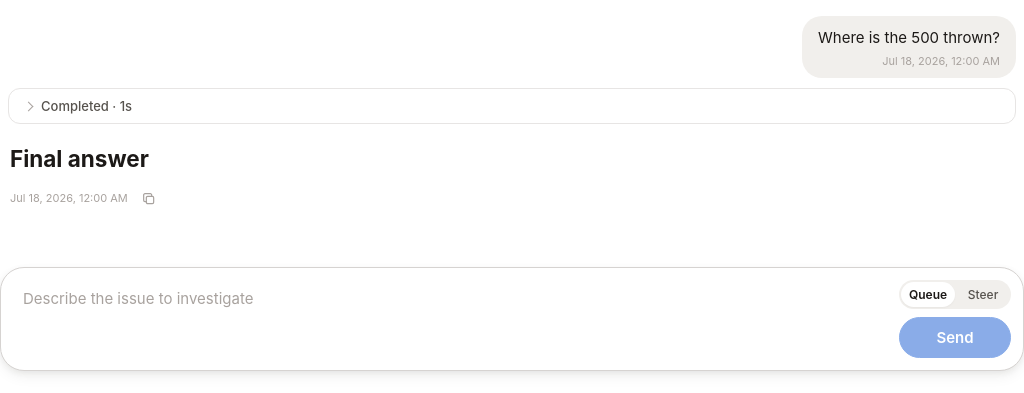
Test: Chat › reports a clipboard failure without changing the message
Step 1. Click the button named "Copy assistant message" → click(149, 199), box [136,187,162,211]
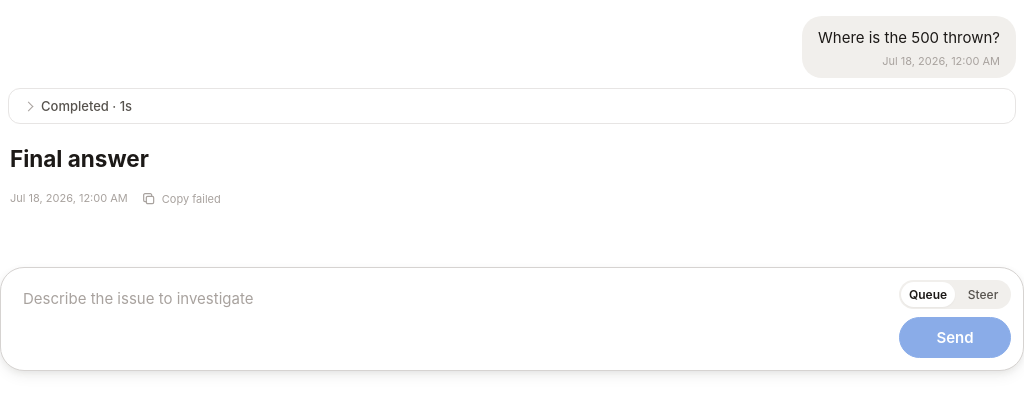
expect the heading "Final answer" is shown: met, box [10,145,149,172]
expect the button with aria-label "Copy assistant message failed" is shown: met, box [136,187,226,211]
expect the text "Copy failed" is shown: met, box [162,192,221,206]
